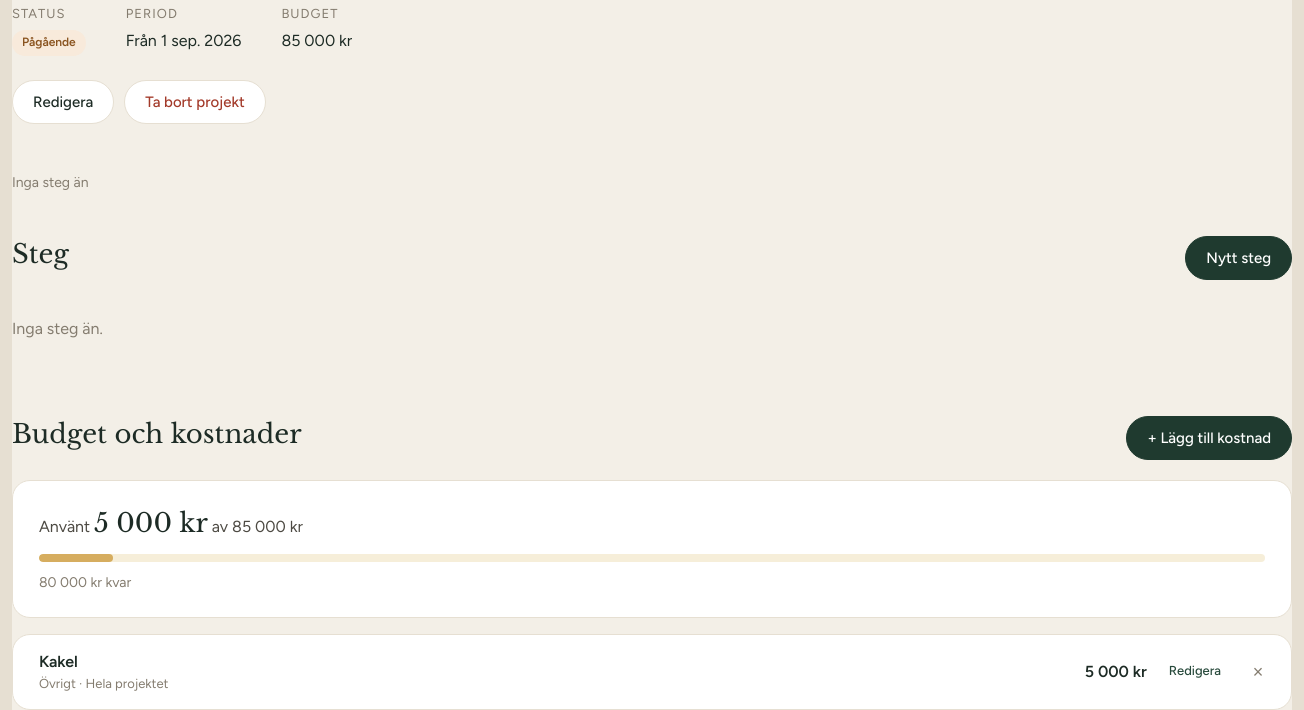
Scenario: ProjectDetail: expenses › updates the list and the budget summary after editing an expense
(page scrolled)
expect the text "Kakel" is shown: met, box [39,652,78,670]
Click the button with aria-label "Redigera kostnaden Kakel" at {"x": 1195, "y": 672}, box [1163,657,1227,686]
(page scrolled)
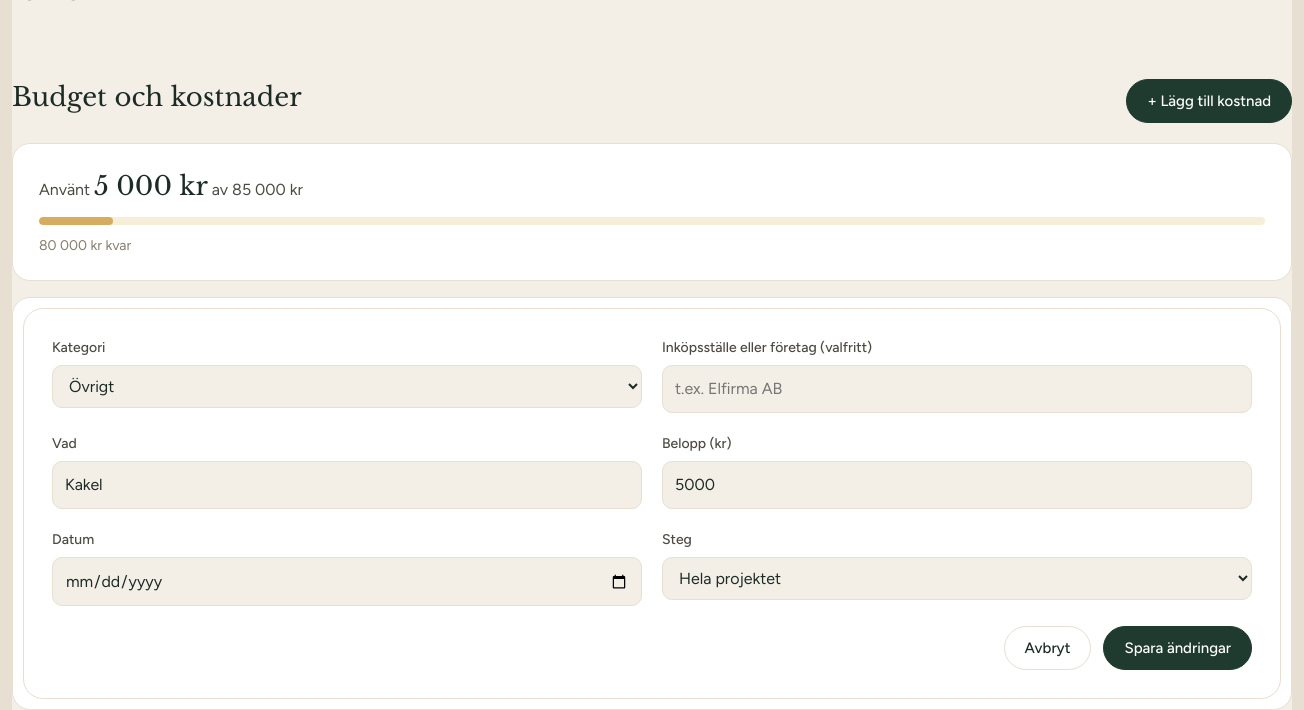
Replace the text in the number field labelled "Belopp (kr)" with "15000" at {"x": 957, "y": 485}, box [662,461,1252,508]
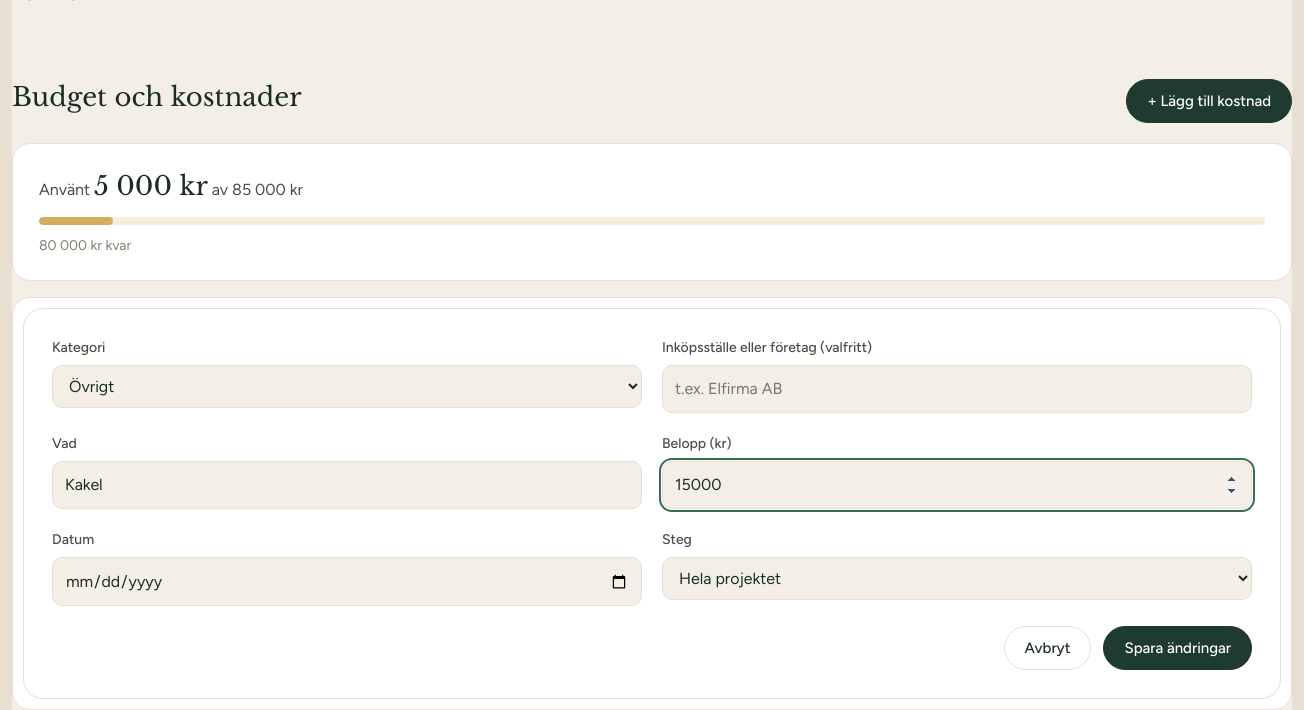
Click the button "Spara ändringar" at {"x": 1178, "y": 648}, box [1104,626,1252,670]
(page scrolled)
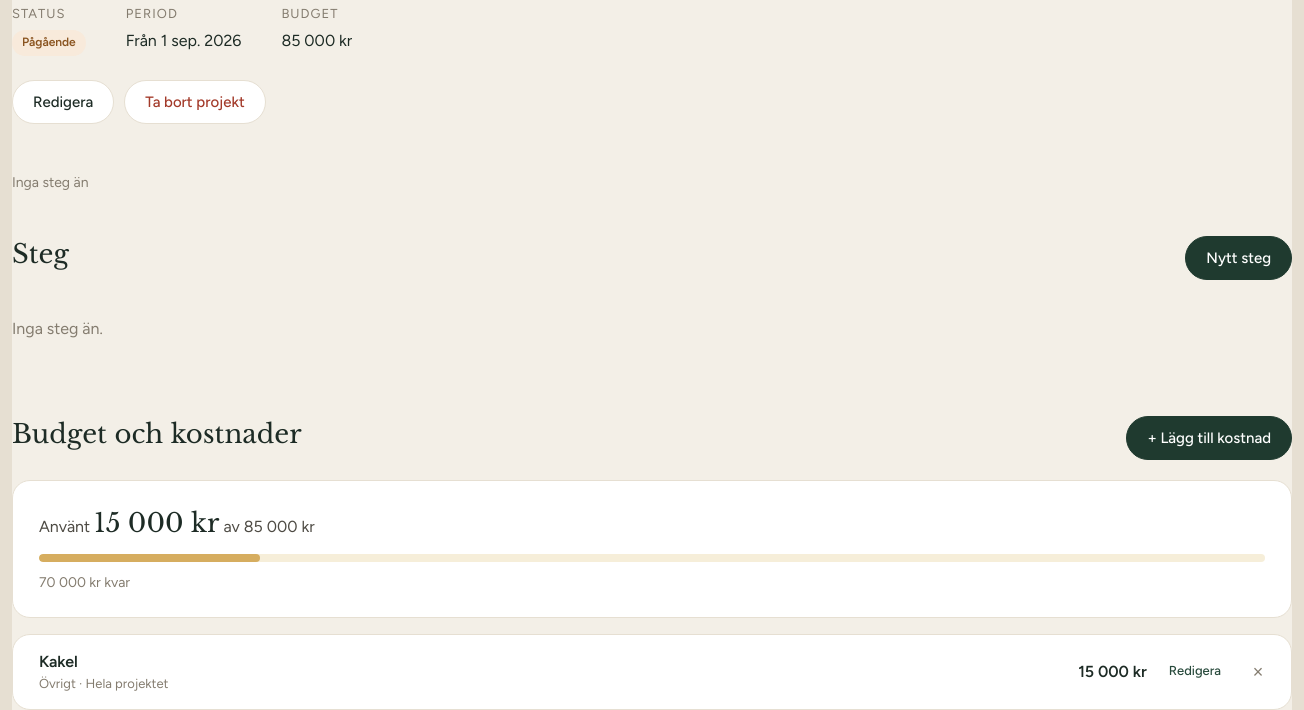
expect the text "70 000 kr kvar" is shown: met, box [39,574,130,591]
